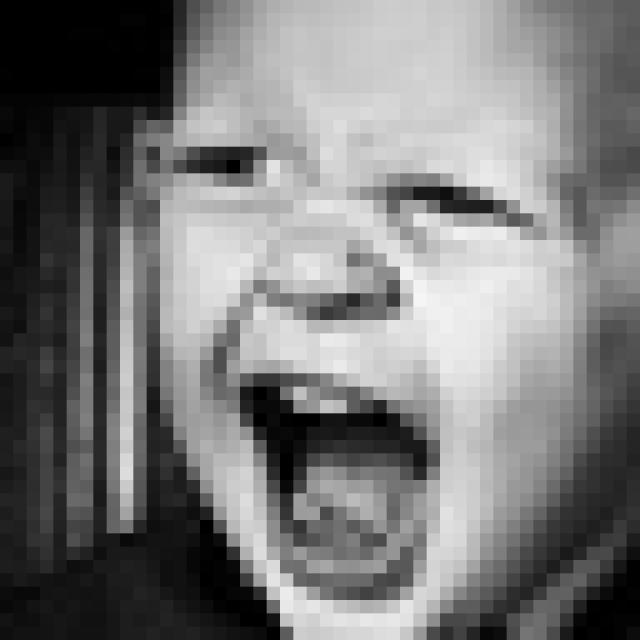angry: (162, 107, 555, 598)
